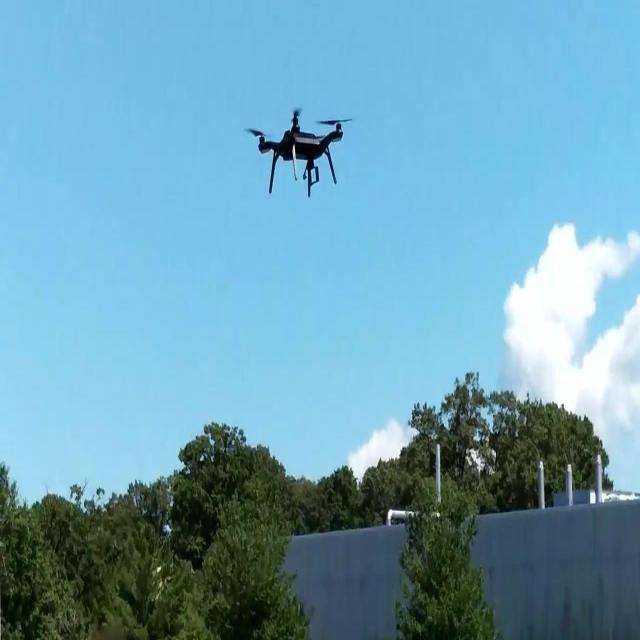drone: (258, 109, 346, 200)
